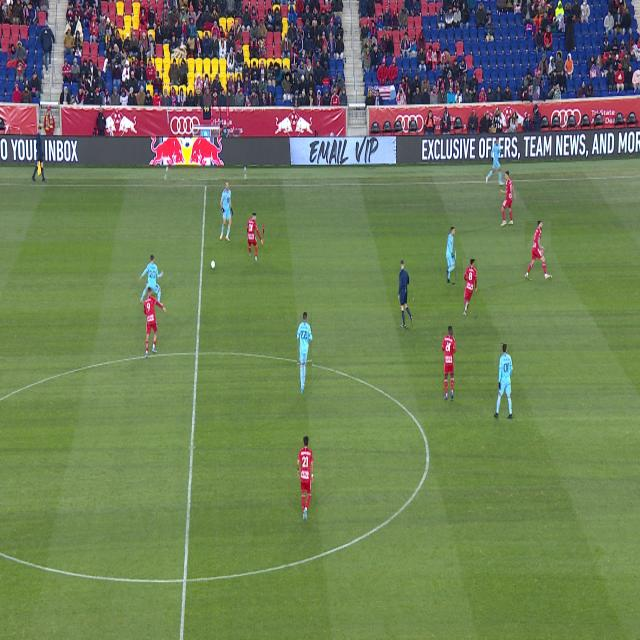football: (211, 261, 215, 269)
player: (144, 287, 166, 358), (526, 221, 551, 279), (494, 344, 513, 419), (297, 436, 313, 521), (139, 255, 164, 306), (297, 313, 312, 394), (442, 327, 456, 400), (500, 171, 516, 227), (486, 138, 504, 186), (463, 259, 477, 316), (220, 182, 233, 241), (248, 213, 263, 262), (447, 228, 455, 283)
referee: (398, 261, 413, 328)
